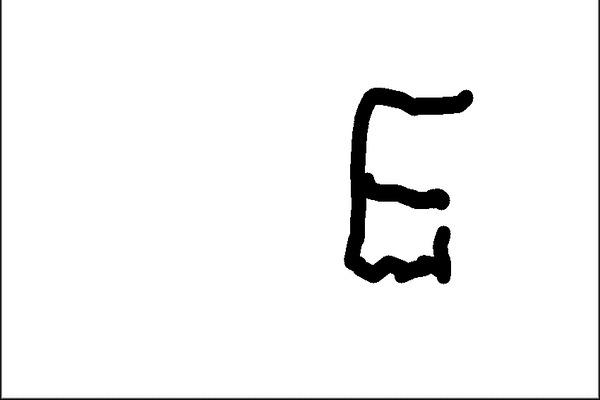E: (333, 81, 477, 288)
